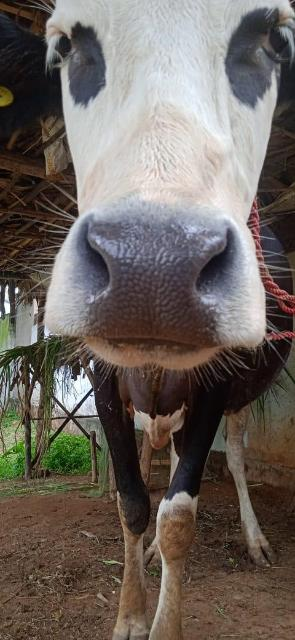Muzzle: (84, 213, 230, 341)
